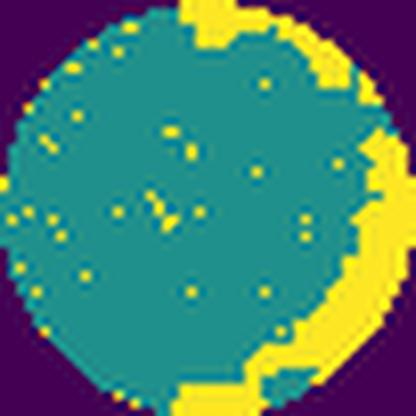Edge-Loc: (169, 129, 416, 415), (178, 0, 352, 89), (355, 72, 384, 107)
